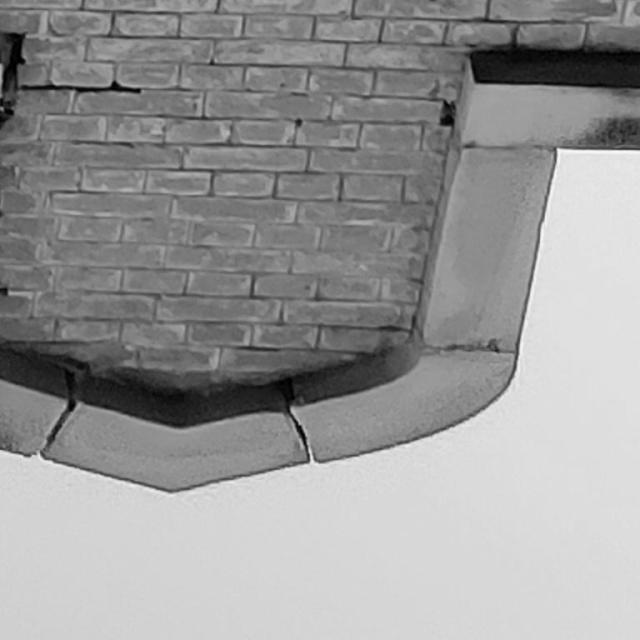crack: (0, 31, 142, 127)
